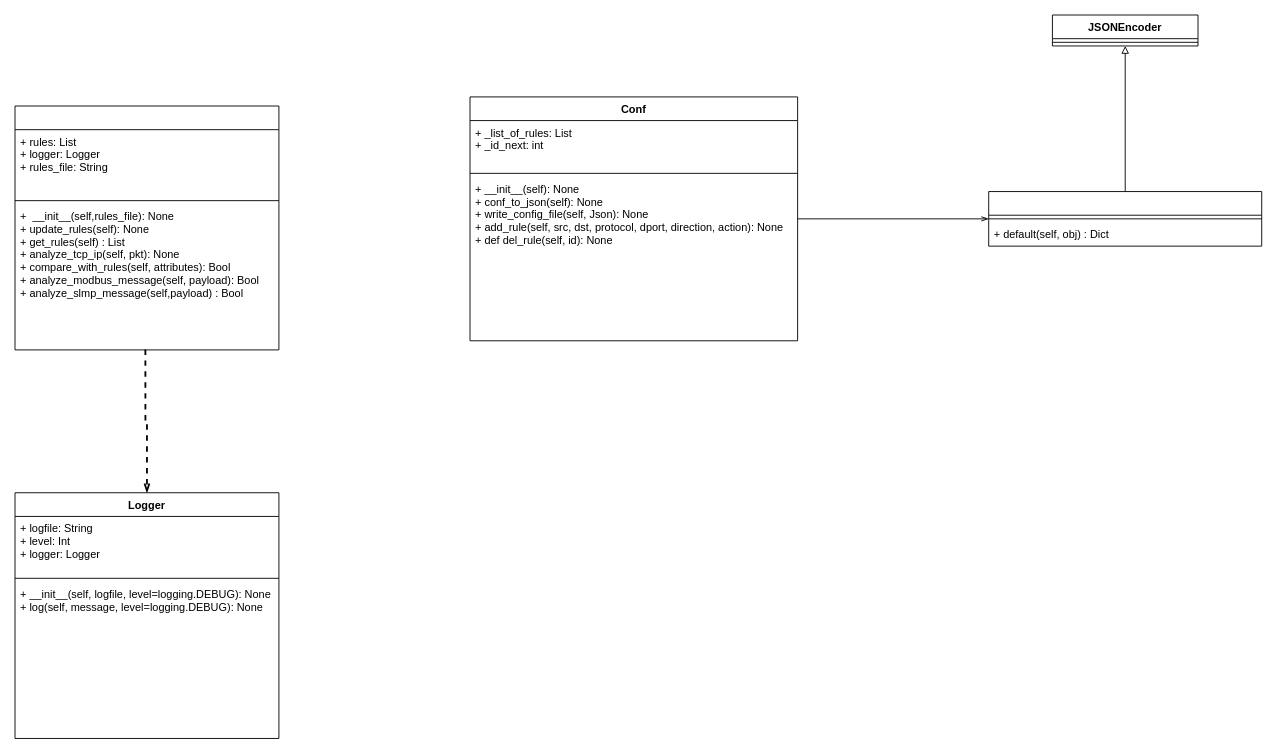
Some shapes in this 1277 by 753 pixel diagram are drawn without their labels. The shapes that lost their labels are listed below. From the top down, each one's box as (x1, y1, x2, y2) in pixels, then its label:
(14, 105, 279, 350): Fire
(988, 191, 1262, 246): MyEncoder
